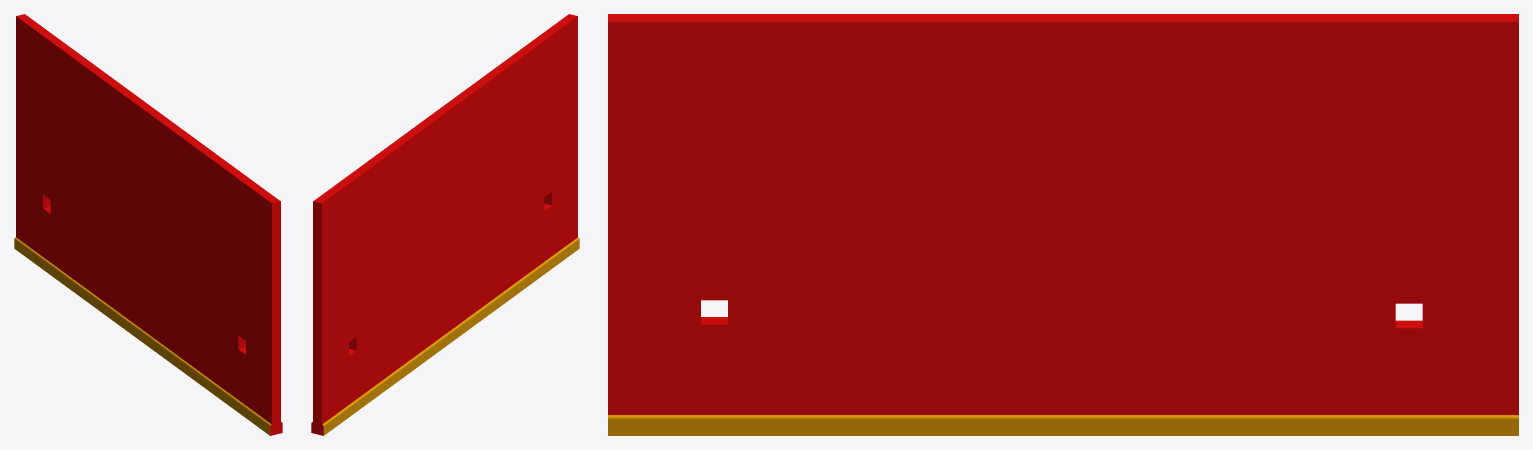
File: Wall_05 2.fbx
3 renders of one model, left to right at view 1: azimuth 30°, elevation 25°; view 2: azimuth 150°, elevation 25°; view 3: azimuth 270°, elevation 25°, orthographic. The views are drawn at different scales.
Parts seen in each view (by area): view 1: Wall_05; view 2: Wall_05; view 3: Wall_05.
Part boxes in pixels (<box>): Wall_05: <box>14,14,282,435</box>; Wall_05: <box>311,14,579,435</box>; Wall_05: <box>608,14,1518,435</box>.
Size of the model in its own units: 282 by 5000 by 10000.
